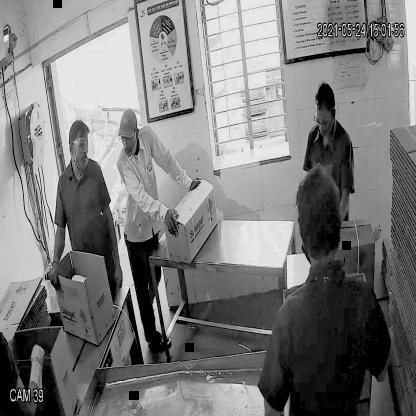goggles: (66, 135, 92, 154), (312, 112, 336, 132)
